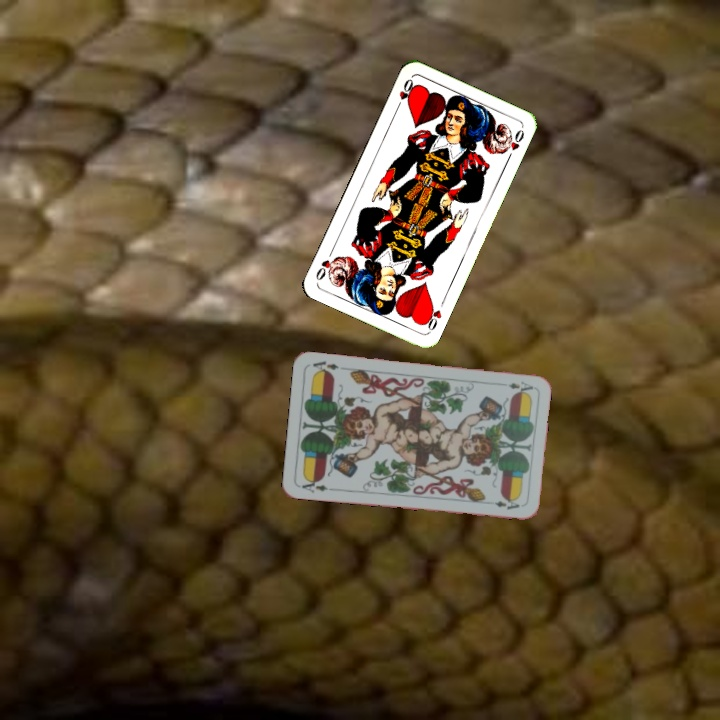EA: (298, 475, 337, 495), (504, 377, 536, 395)
HO: (392, 74, 418, 112), (420, 301, 444, 335)
